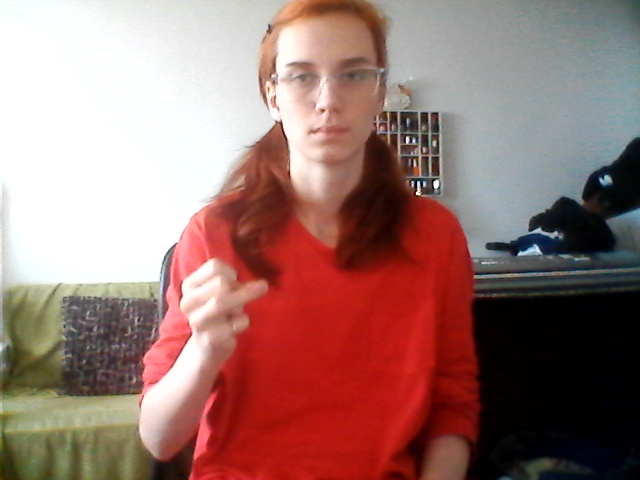r: (174, 244, 282, 375)
